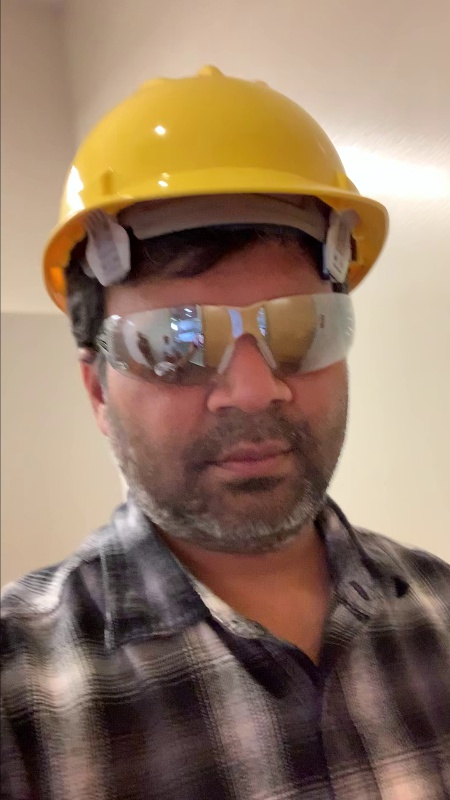glasses: (107, 299, 352, 383)
helmet: (63, 58, 380, 205)
